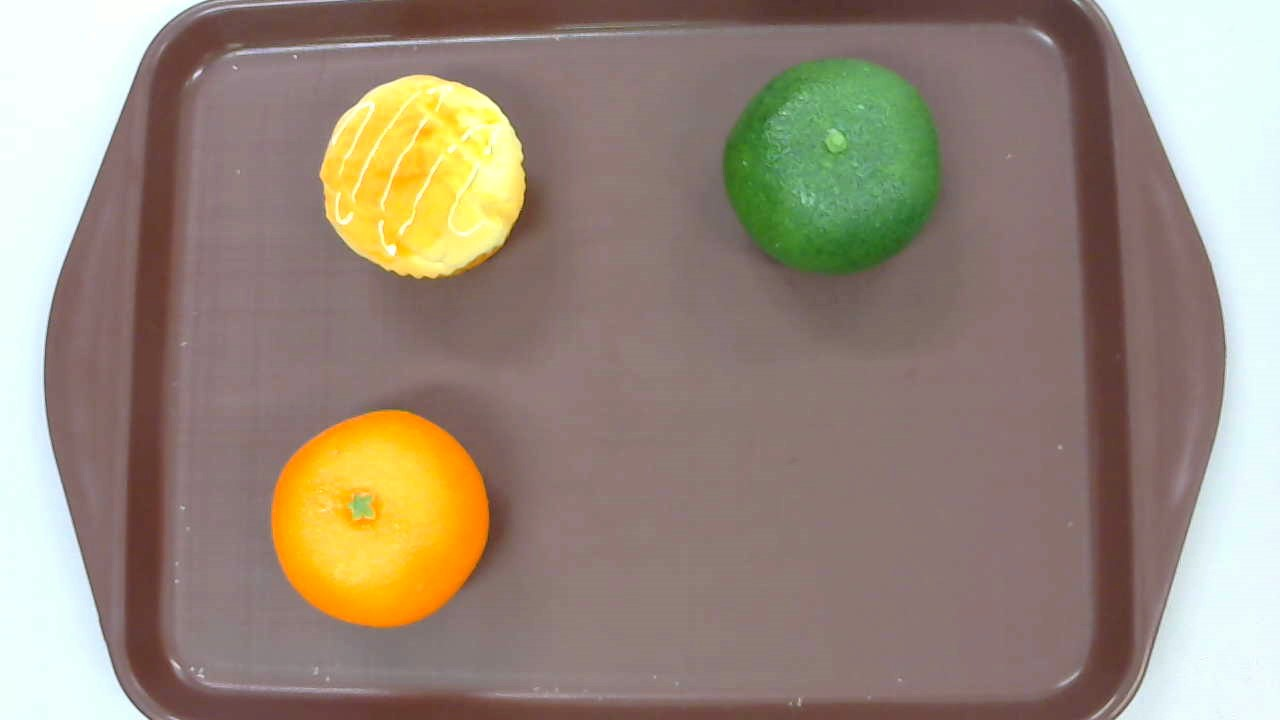cupcake: (318, 73, 527, 281)
green orange: (723, 59, 941, 277)
orange: (271, 409, 490, 627)
